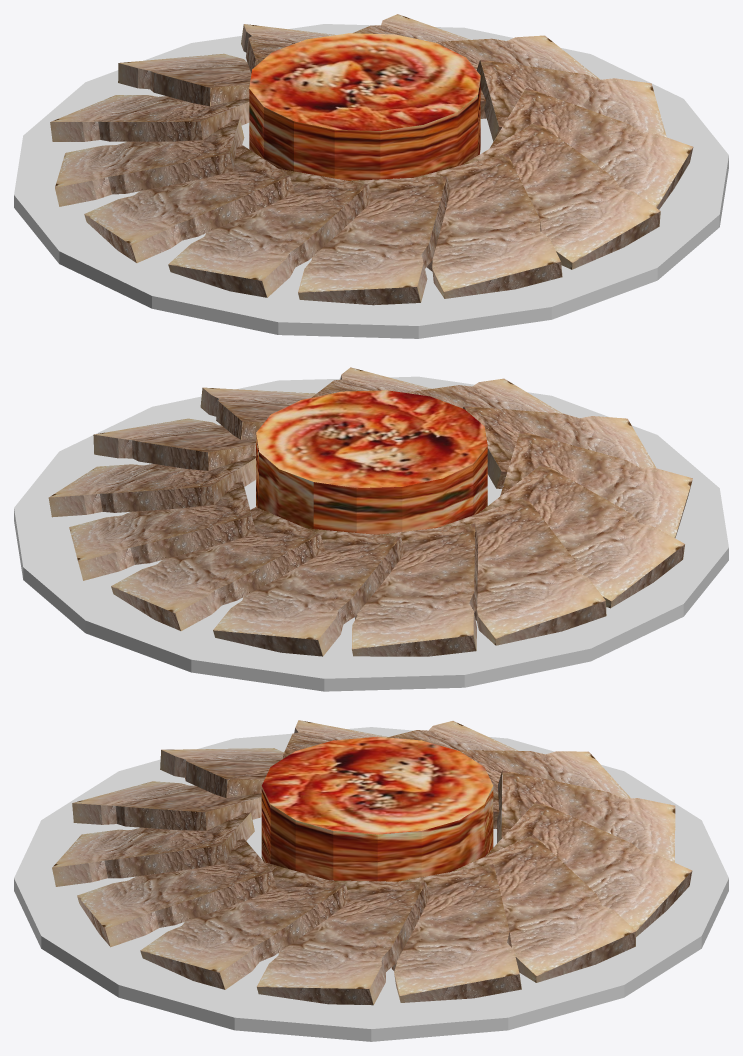
The model's file is Gukbap_Suyuk.glb.
3 views of the same model, one above another, from view 1: azimuth 30°, elevation 25°; view 2: azimuth 150°, elevation 25°; view 3: azimuth 270°, elevation 25° (orthographic).
Visible parts, largest first — view 1: Plate, Bite14, Bite2, Bite3, Bite4, Bite1, Bite5, Bite13, Bite6, Bite12, Bite7, Bite8 (+3 smaller); view 2: Plate, Bite14, Bite6, Bite7, Bite8, Bite9, Bite5, Bite10, Bite4, Bite11, Bite3, Bite12 (+3 smaller); view 3: Plate, Bite14, Bite12, Bite11, Bite10, Bite13, Bite9, Bite1, Bite2, Bite8, Bite3, Bite4 (+3 smaller).
Part boxes in pixels (x1=…): Plate: x1=14, y1=24, x2=728, y2=338; Bite14: x1=249, y1=33, x2=480, y2=180; Bite2: x1=415, y1=153, x2=562, y2=298; Bite3: x1=298, y1=176, x2=450, y2=305; Bite4: x1=168, y1=169, x2=373, y2=297; Bite1: x1=461, y1=122, x2=660, y2=269; Bite5: x1=84, y1=145, x2=294, y2=262; Bite13: x1=489, y1=87, x2=693, y2=209; Bite6: x1=55, y1=118, x2=244, y2=206; Bite12: x1=476, y1=59, x2=666, y2=141; Bite7: x1=50, y1=95, x2=249, y2=141; Bite8: x1=118, y1=53, x2=251, y2=106; Plate: x1=14, y1=376, x2=728, y2=691; Bite14: x1=256, y1=390, x2=487, y2=534; Bite6: x1=437, y1=497, x2=606, y2=645; Bite7: x1=352, y1=523, x2=477, y2=656; Bite8: x1=213, y1=528, x2=405, y2=656; Bite9: x1=111, y1=507, x2=325, y2=630; Bite5: x1=478, y1=463, x2=684, y2=608; Bite10: x1=69, y1=481, x2=256, y2=580; Bite4: x1=500, y1=431, x2=692, y2=537; Bite11: x1=48, y1=456, x2=255, y2=517; Bite3: x1=463, y1=406, x2=656, y2=488; Bite12: x1=93, y1=418, x2=255, y2=470; Plate: x1=14, y1=727, x2=728, y2=1041; Bite14: x1=261, y1=736, x2=493, y2=881; Bite12: x1=257, y1=880, x2=429, y2=1005; Bite11: x1=391, y1=864, x2=521, y2=1002; Bite10: x1=452, y1=835, x2=636, y2=982; Bite13: x1=140, y1=863, x2=350, y2=989; Bite9: x1=486, y1=801, x2=692, y2=936; Bite1: x1=77, y1=838, x2=276, y2=947; Bite2: x1=52, y1=812, x2=254, y2=886; Bite8: x1=497, y1=770, x2=675, y2=862; Bite3: x1=72, y1=781, x2=261, y2=830; Bite4: x1=160, y1=748, x2=283, y2=798.
Size of the model in its own units: 3.23 by 0.5162 by 3.23.
2 materials, 2 textured.
